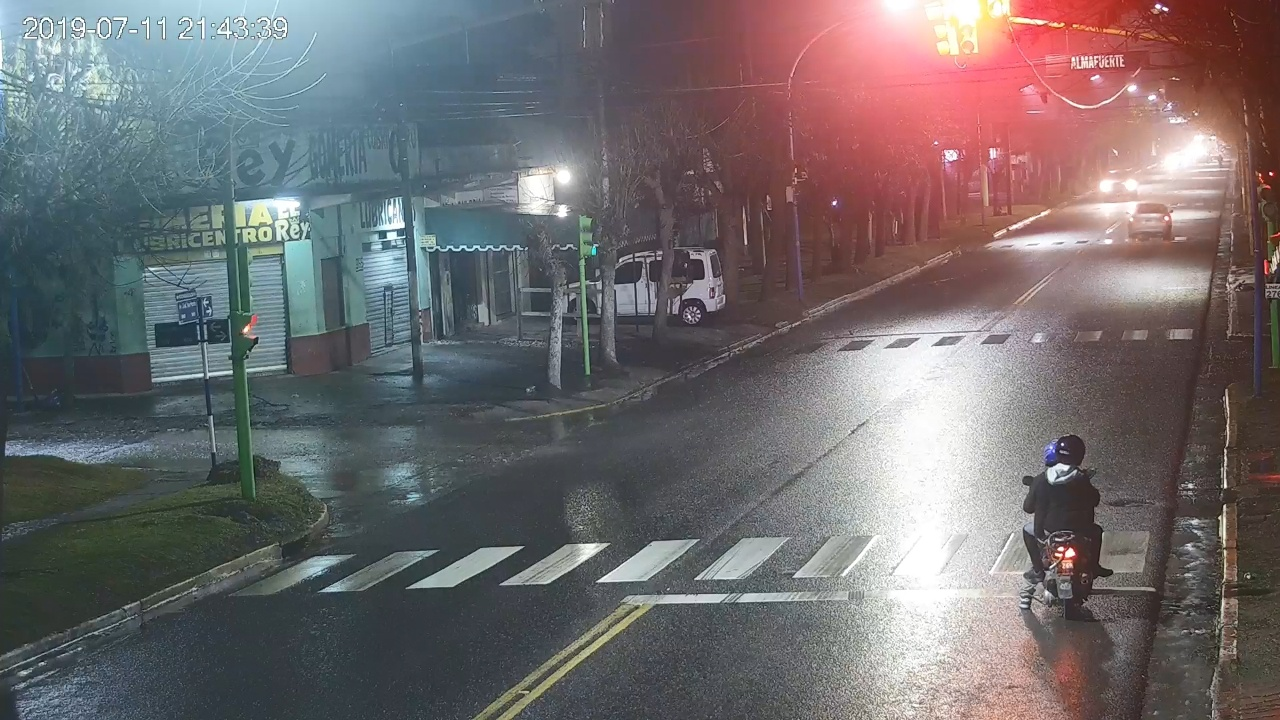motorcycle: (1021, 466, 1109, 618)
traffic light: (957, 1, 980, 55)
